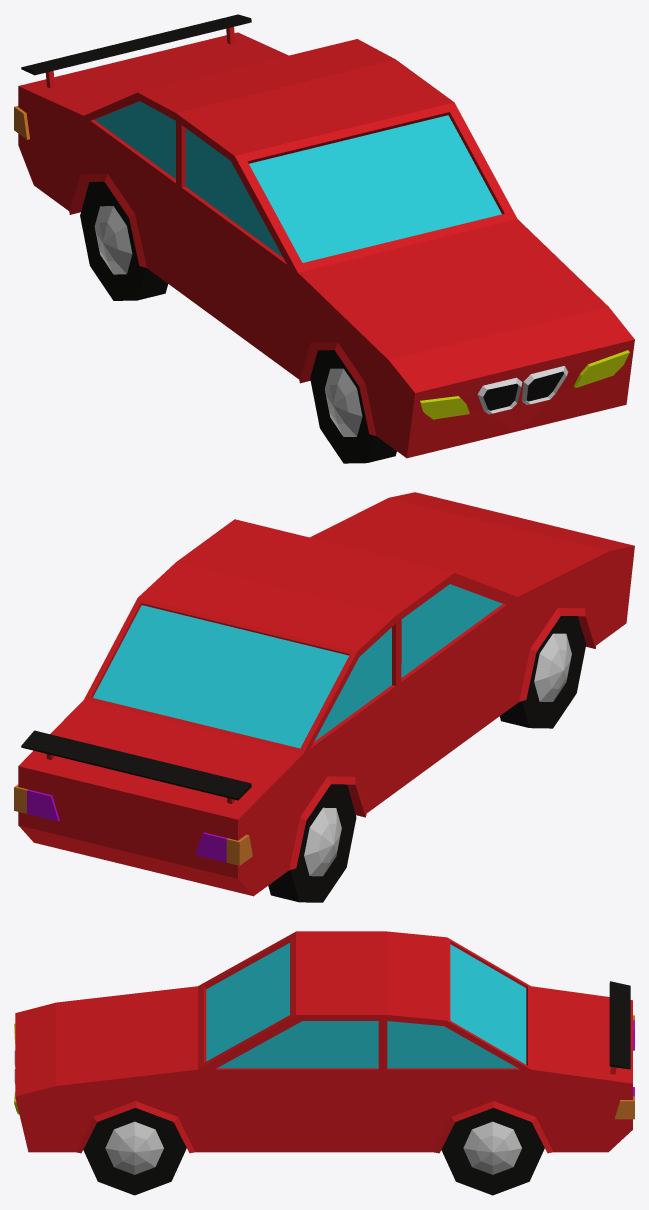
The model's file is bmw.fbx.
3 views of the same model, one above another, from view 1: azimuth 30°, elevation 25°; view 2: azimuth 150°, elevation 25°; view 3: azimuth 270°, elevation 25° (orthographic). The views are drawn at different scales.
Parts seen in each view (by area): view 1: Plane; view 2: Plane; view 3: Plane.
Boxes of the visible parts, <box> form: Plane: <box>14,14,634,463</box>; Plane: <box>14,492,634,902</box>; Plane: <box>14,931,634,1195</box>.
Bounding box in the file's own units: 203 × 197 × 597.
